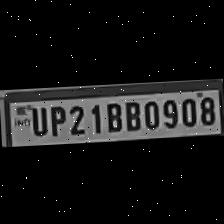0: (140, 96, 160, 130), (178, 93, 198, 126)
1: (84, 100, 104, 134)
2: (65, 100, 88, 136)
8: (196, 92, 216, 126)
9: (158, 96, 178, 128)
B: (102, 99, 122, 133), (121, 98, 141, 132)
P: (46, 102, 67, 136)
U: (26, 104, 48, 136)
